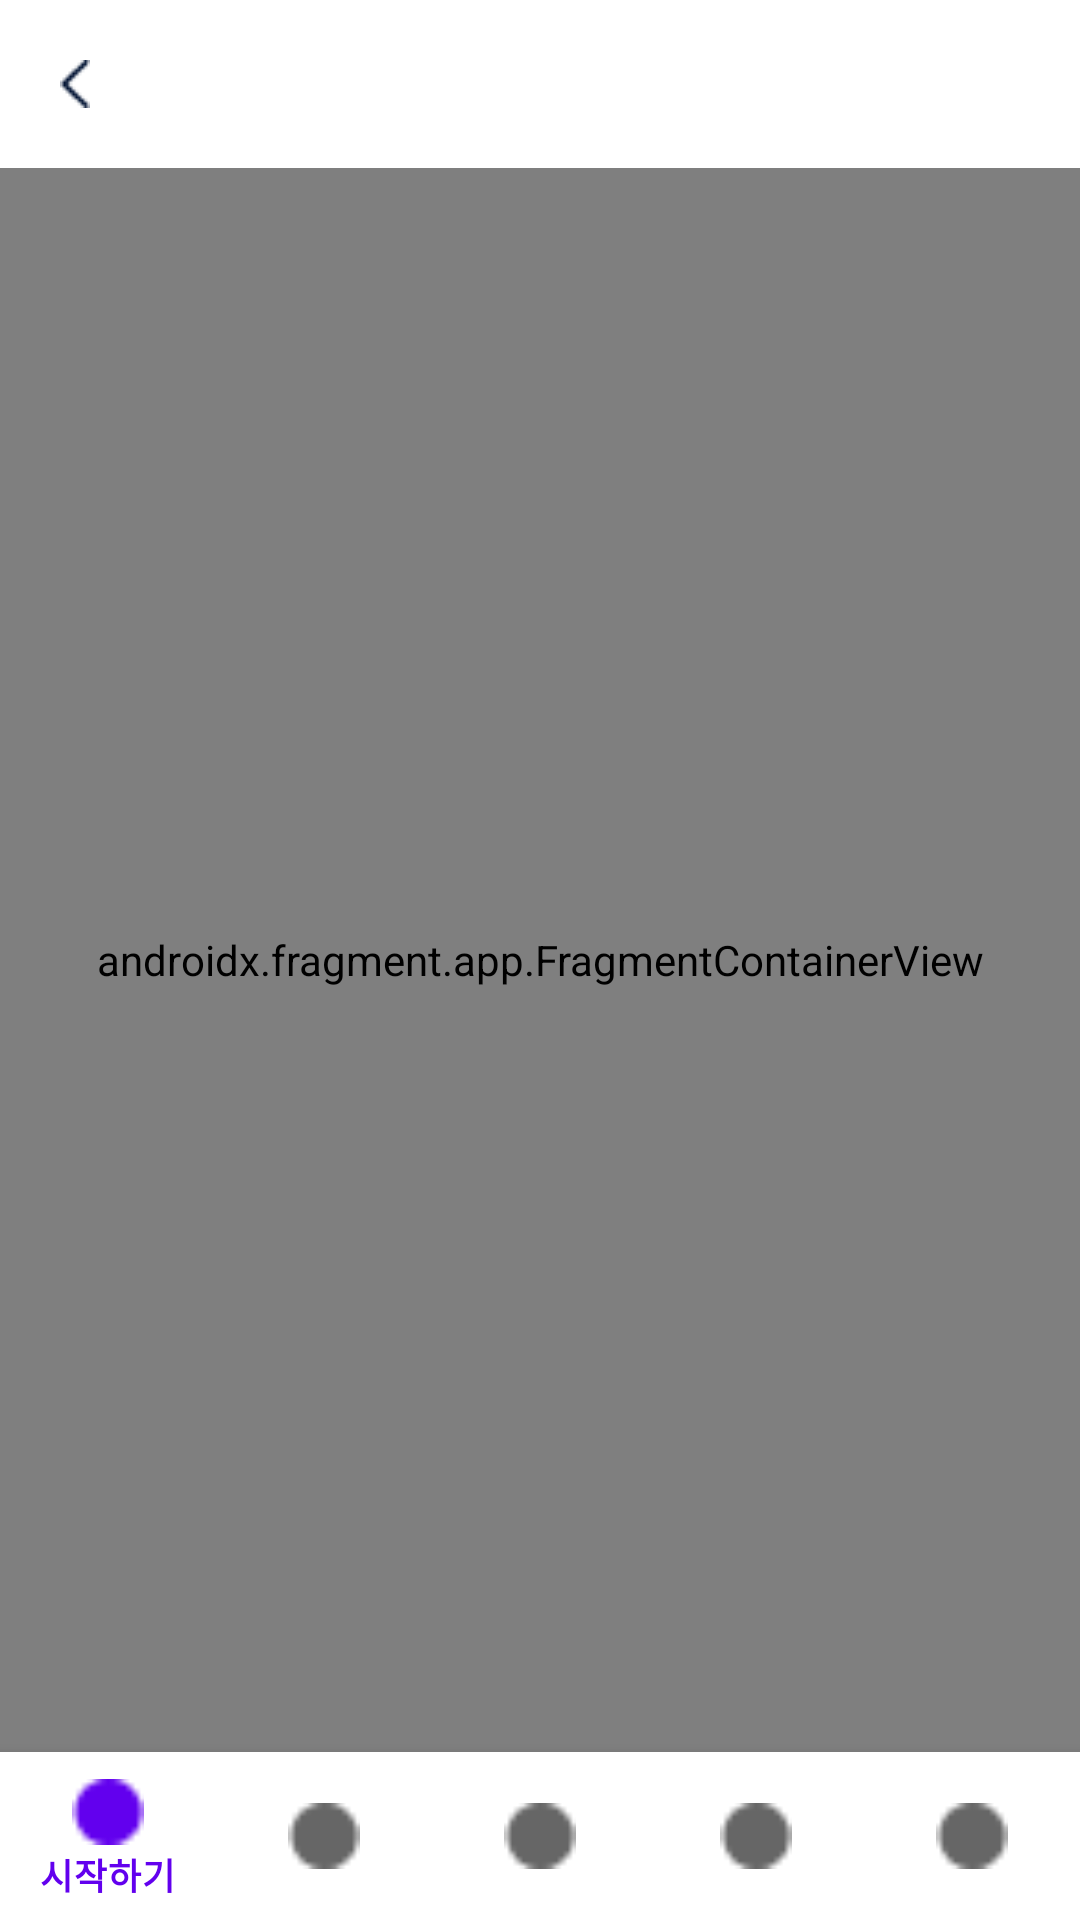

Named icons in this screenshot (1080 × 1920) and their centers, [x,y]:
arrow back: [75,84]
